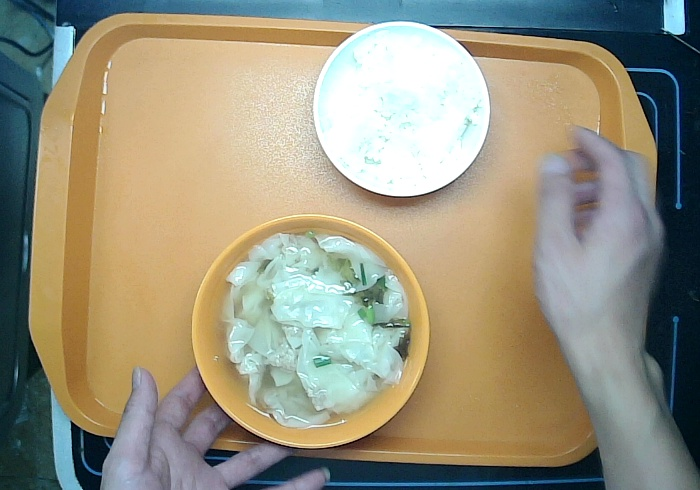NLDX-Fan_Wan: (309, 17, 496, 203)
NLDX-Hun_Tun_Wan: (184, 208, 437, 456)
